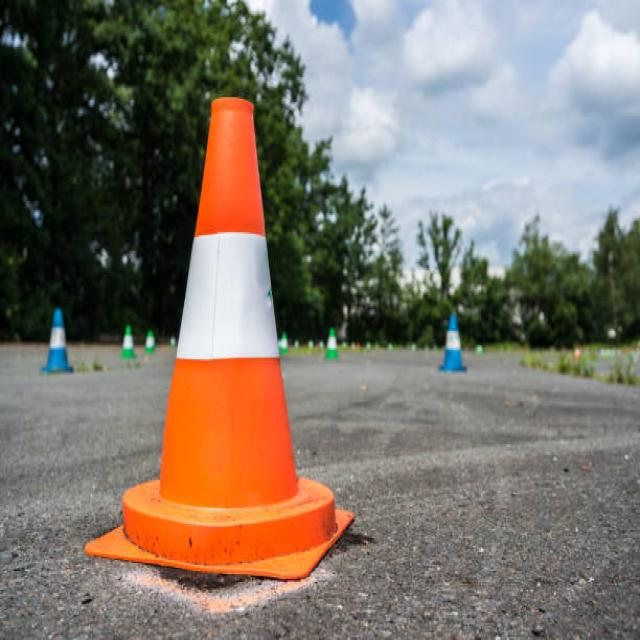Traffic Cone: (70, 68, 398, 615)
